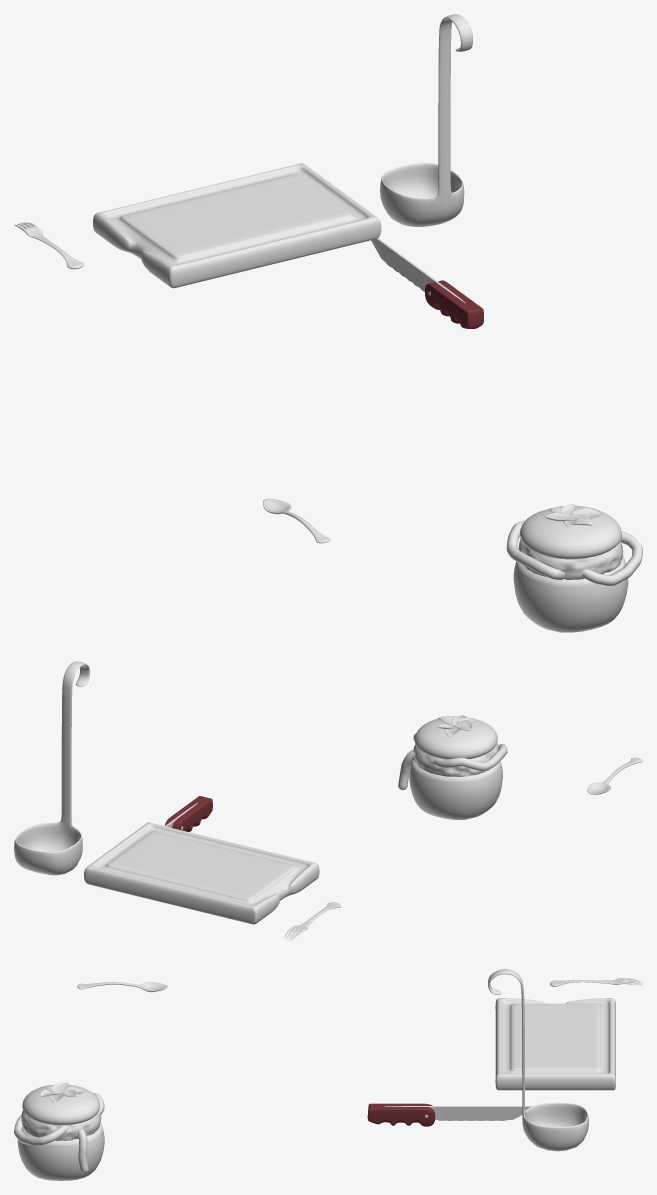
Rendered from GrenadeFarcie.FBX.
3 renders of one model, top to bottom at view 1: azimuth 30°, elevation 25°; view 2: azimuth 150°, elevation 25°; view 3: azimuth 270°, elevation 25°, orthographic. The views are drawn at different scales.
Visible parts, largest first — view 1: PlancheDecoupe, Cube.004, Louche, CouteauManche; view 2: PlancheDecoupe, Cube.004, Louche, CouteauManche, Cuillère, Fourchette; view 3: PlancheDecoupe, Cube.004, Louche, CouteauManche, Cuillère, Fourchette.
Part boxes in pixels (x1,y1,x2,y2): PlancheDecoupe: (93,163,381,288); Cube.004: (506,504,642,632); Louche: (380,14,472,226); CouteauManche: (371,238,483,328); PlancheDecoupe: (84,822,319,924); Cube.004: (398,715,507,819); Louche: (14,661,89,875); CouteauManche: (165,796,212,831); Cuillère: (587,757,642,794); Fourchette: (284,902,340,940); PlancheDecoupe: (495,998,615,1090); Cube.004: (14,1082,104,1180); Louche: (488,969,588,1151); CouteauManche: (367,1103,532,1126); Cuillère: (77,981,167,992); Fourchette: (550,978,642,986).
Bounding box in the file's own units: 1196 × 867 × 1864.
